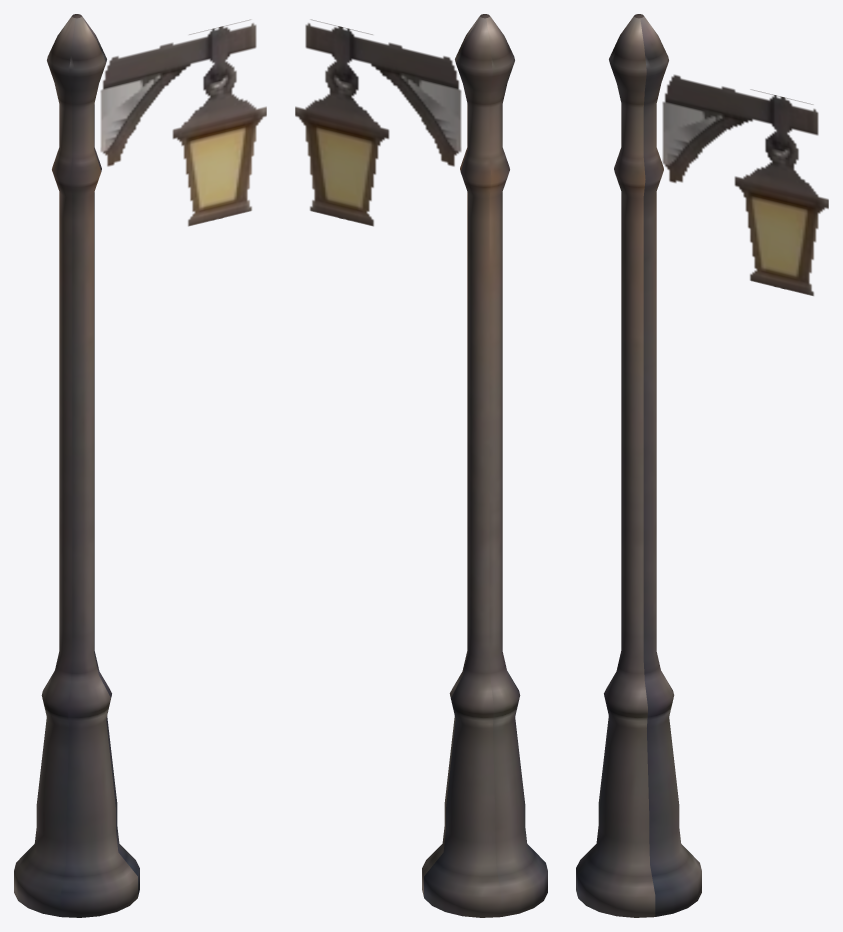
File: town-lamp.glb
The picture shows the model from 3 angles, left to right: view 1: azimuth 30°, elevation 25°; view 2: azimuth 150°, elevation 25°; view 3: azimuth 330°, elevation 25°; orthographic projection.
Parts seen in each view (by area): view 1: piece; view 2: piece; view 3: piece.
Boxes of the visible parts, <box> form: piece: <box>14,14,266,917</box>; piece: <box>295,14,547,917</box>; piece: <box>576,14,828,917</box>.
Size of the model in its own units: 0.8749 by 3 by 0.3867.
Materials: 2 (2 with a texture image).
